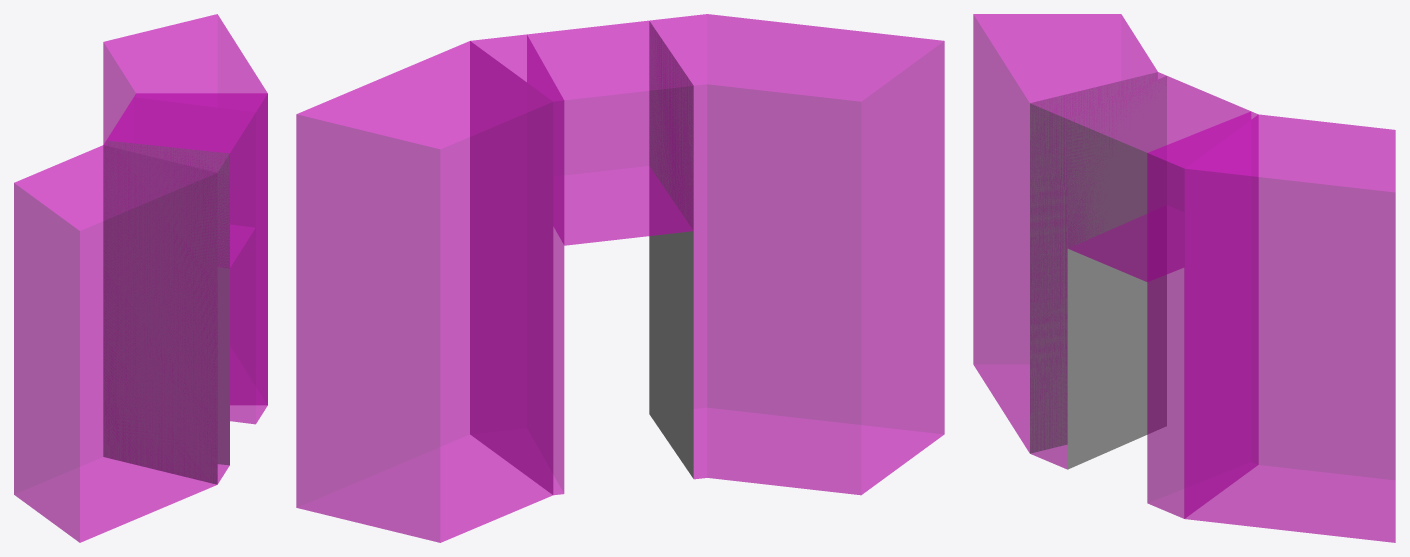
File: SM_Bld_Wall_L_Curve_Door_02_Collision.fbx
The picture shows the model from 3 angles, left to right: view 1: azimuth 30°, elevation 25°; view 2: azimuth 150°, elevation 25°; view 3: azimuth 270°, elevation 25°; orthographic projection. The views are drawn at different scales.
Parts seen in each view (by area): view 1: SM_Bld_Wall_L_Curve_Door_02_Collision; view 2: SM_Bld_Wall_L_Curve_Door_02_Collision; view 3: SM_Bld_Wall_L_Curve_Door_02_Collision.
Boxes of the visible parts, left/top/right/bottom form: SM_Bld_Wall_L_Curve_Door_02_Collision: left=14, top=14, right=267, bottom=542; SM_Bld_Wall_L_Curve_Door_02_Collision: left=296, top=14, right=944, bottom=542; SM_Bld_Wall_L_Curve_Door_02_Collision: left=973, top=14, right=1395, bottom=542.
Bounding box in the file's own units: 336 × 308 × 336.
